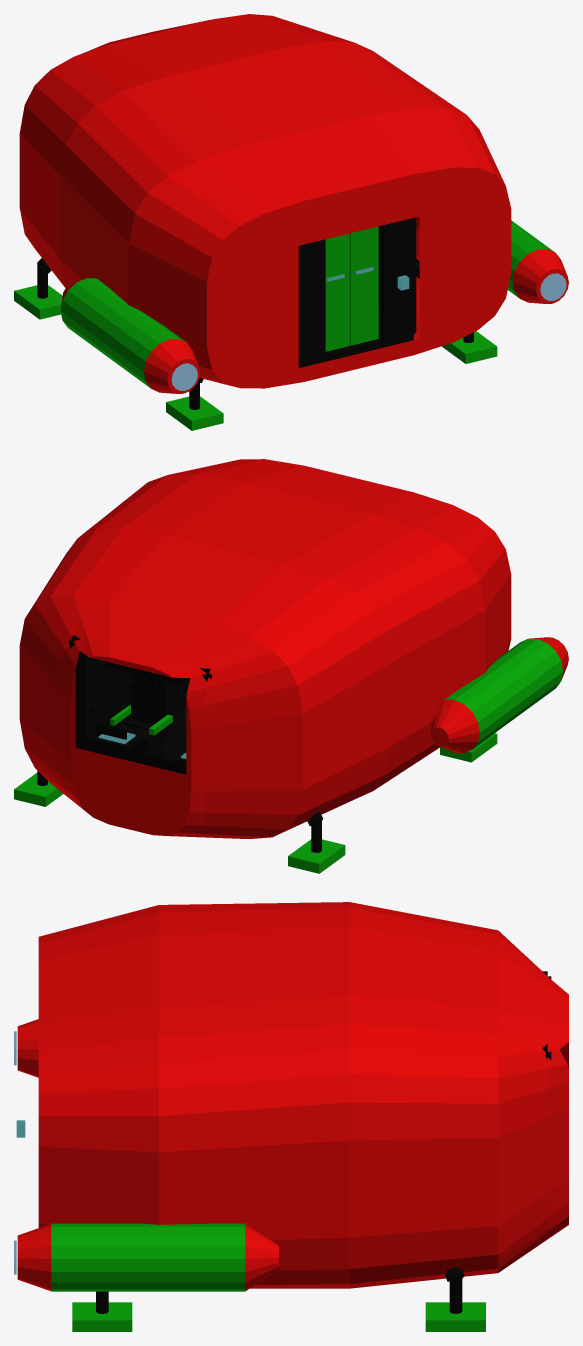
File: drift.glb
3 views of the same model, one above another, from view 1: azimuth 30°, elevation 25°; view 2: azimuth 150°, elevation 25°; view 3: azimuth 270°, elevation 25° (orthographic). The views are drawn at different scales.
Parts seen in each view (by area): view 1: horizon_drift:arrowhead_scout, horizon_drift:room_eva, horizon_drift:field_drive_1, horizon_drift:field_drive_2, horizon_drift:door_eva-outer_1, horizon_drift:door_eva-outer_-1, horizon_drift:gear_2, horizon_drift:gear_0, horizon_drift:gear_3; view 2: horizon_drift:arrowhead_scout, horizon_drift:field_drive_1, horizon_drift:room_bridge, horizon_drift:seat_1, horizon_drift:gear_0, horizon_drift:gear_1, horizon_drift:finish_bridge, horizon_drift:furnishings_bridge, horizon_drift:gear_2; view 3: horizon_drift:arrowhead_scout, horizon_drift:field_drive_2, horizon_drift:gear_1, horizon_drift:gear_3, horizon_drift:field_drive_1.
Part boxes in pixels (x1,y1,x2,y2): horizon_drift:arrowhead_scout: [19, 14, 511, 388]; horizon_drift:room_eva: [298, 217, 416, 367]; horizon_drift:field_drive_1: [60, 278, 200, 393]; horizon_drift:field_drive_2: [508, 220, 568, 303]; horizon_drift:door_eva-outer_1: [349, 226, 378, 345]; horizon_drift:door_eva-outer_-1: [325, 233, 349, 351]; horizon_drift:gear_2: [166, 381, 223, 430]; horizon_drift:gear_0: [14, 262, 62, 319]; horizon_drift:gear_3: [442, 331, 497, 363]; horizon_drift:arrowhead_scout: [19, 459, 511, 838]; horizon_drift:field_drive_1: [430, 637, 568, 753]; horizon_drift:room_bridge: [69, 640, 212, 774]; horizon_drift:seat_1: [110, 672, 172, 758]; horizon_drift:gear_0: [288, 817, 345, 873]; horizon_drift:gear_1: [14, 771, 63, 806]; horizon_drift:finish_bridge: [96, 661, 183, 739]; horizon_drift:furnishings_bridge: [94, 732, 186, 764]; horizon_drift:gear_2: [440, 733, 497, 762]; horizon_drift:arrowhead_scout: [38, 902, 568, 1288]; horizon_drift:field_drive_2: [14, 1223, 278, 1291]; horizon_drift:gear_1: [425, 1272, 485, 1331]; horizon_drift:gear_3: [72, 1291, 132, 1331]; horizon_drift:field_drive_1: [14, 1019, 38, 1077].
Size of the model in its own units: 7.96 by 4.43 by 7.85.
